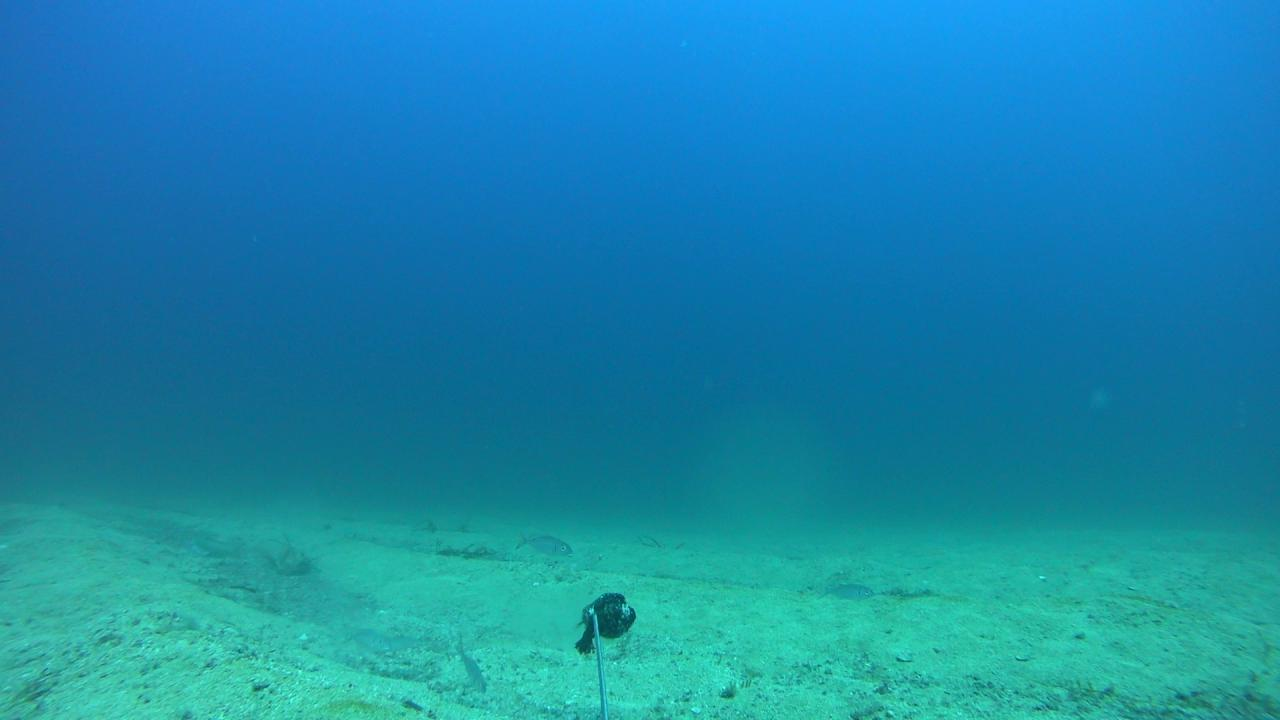pagellus: (454, 634, 486, 695), (515, 528, 572, 557), (817, 578, 873, 599)
